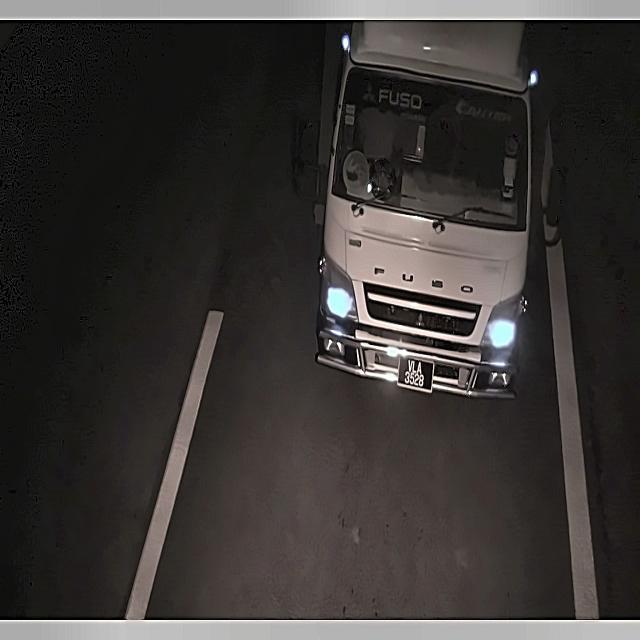car: (395, 346, 440, 397)
